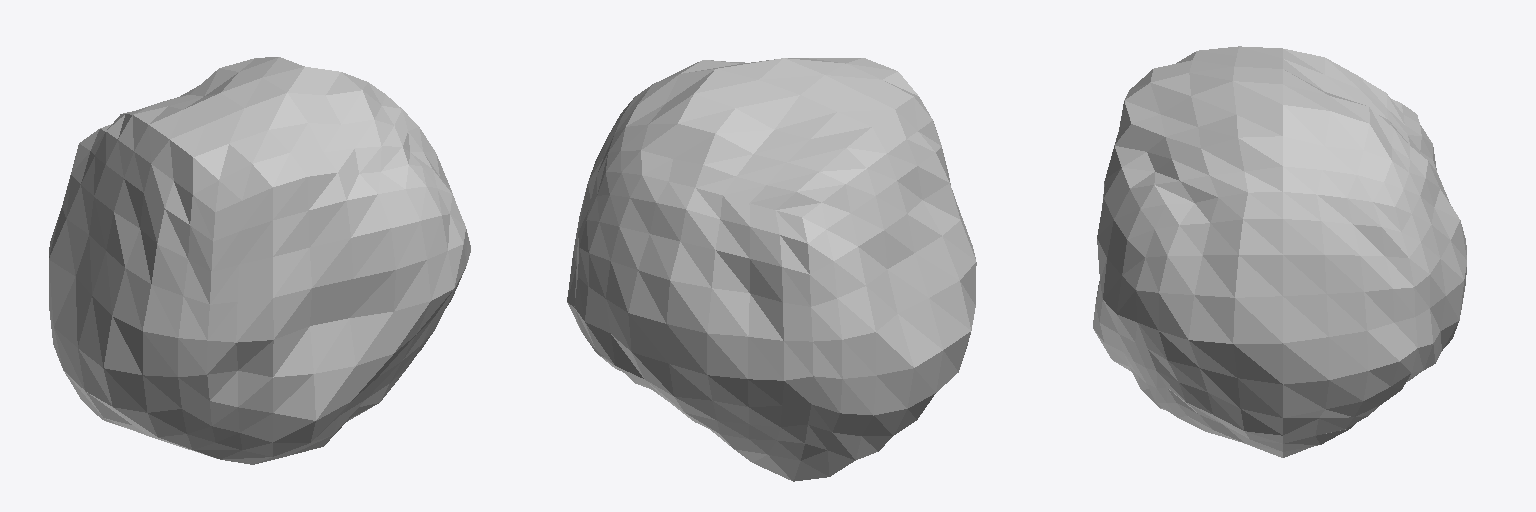
3 renders of one model, left to right at view 1: azimuth 30°, elevation 25°; view 2: azimuth 150°, elevation 25°; view 3: azimuth 270°, elevation 25°, orthographic.
Parts seen in each view (by area): view 1: defaultMaterial.001; view 2: defaultMaterial.001; view 3: defaultMaterial.001.
Boxes of the visible parts, box(x1,y1,x2,y2) form: defaultMaterial.001: box(49, 57, 470, 464); defaultMaterial.001: box(567, 58, 976, 481); defaultMaterial.001: box(1093, 46, 1466, 457).
Bounding box in the file's own units: 7.5 × 7.19 × 6.84.